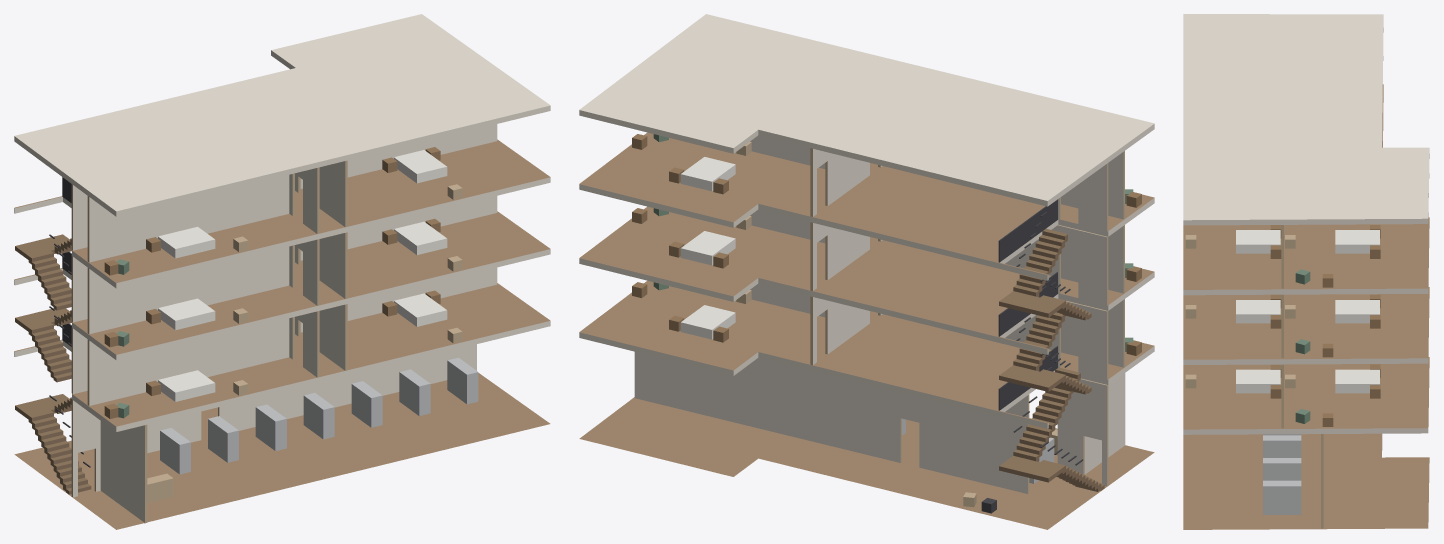
The model's file is interior.glb.
3 views of the same model, side by side, from view 1: azimuth 30°, elevation 25°; view 2: azimuth 150°, elevation 25°; view 3: azimuth 270°, elevation 25° (orthographic). The views are drawn at different scales.
Parts seen in each view (by area): view 1: slabs, partitions, coarse-s0, stair, coarse-s2, coarse-s3, coarse-s1; view 2: slabs, partitions, stair, coarse-s2, coarse-s1, coarse-s3, coarse-s0; view 3: slabs, coarse-s1, coarse-s0, coarse-s2, coarse-s3, partitions.
Boxes of the visible parts, bbox=[...] form: slabs: bbox=[14, 14, 550, 529]; partitions: bbox=[71, 124, 497, 523]; coarse-s0: bbox=[147, 357, 478, 502]; stair: bbox=[15, 177, 91, 494]; coarse-s2: bbox=[104, 218, 462, 347]; coarse-s3: bbox=[104, 147, 462, 275]; coarse-s1: bbox=[104, 290, 462, 418]; slabs: bbox=[579, 14, 1154, 529]; partitions: bbox=[634, 135, 1125, 493]; stair: bbox=[998, 199, 1104, 491]; coarse-s2: bbox=[632, 208, 1141, 281]; coarse-s1: bbox=[632, 282, 1141, 355]; coarse-s3: bbox=[632, 134, 1141, 207]; coarse-s0: bbox=[902, 418, 1057, 513]; slabs: bbox=[1183, 14, 1429, 529]; coarse-s1: bbox=[1185, 364, 1380, 426]; coarse-s0: bbox=[1263, 434, 1301, 514]; coarse-s2: bbox=[1185, 294, 1380, 357]; coarse-s3: bbox=[1185, 225, 1380, 287]; partitions: bbox=[1281, 225, 1323, 528].
Size of the model in its own units: 21.77 by 15.27 by 10.99.
